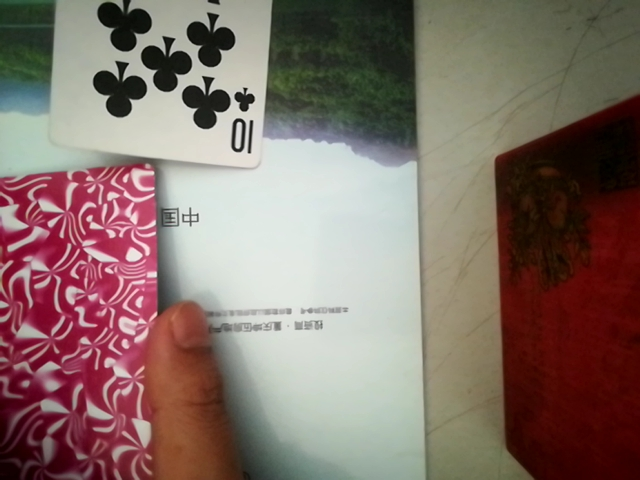mh 10: (39, 1, 279, 162)
